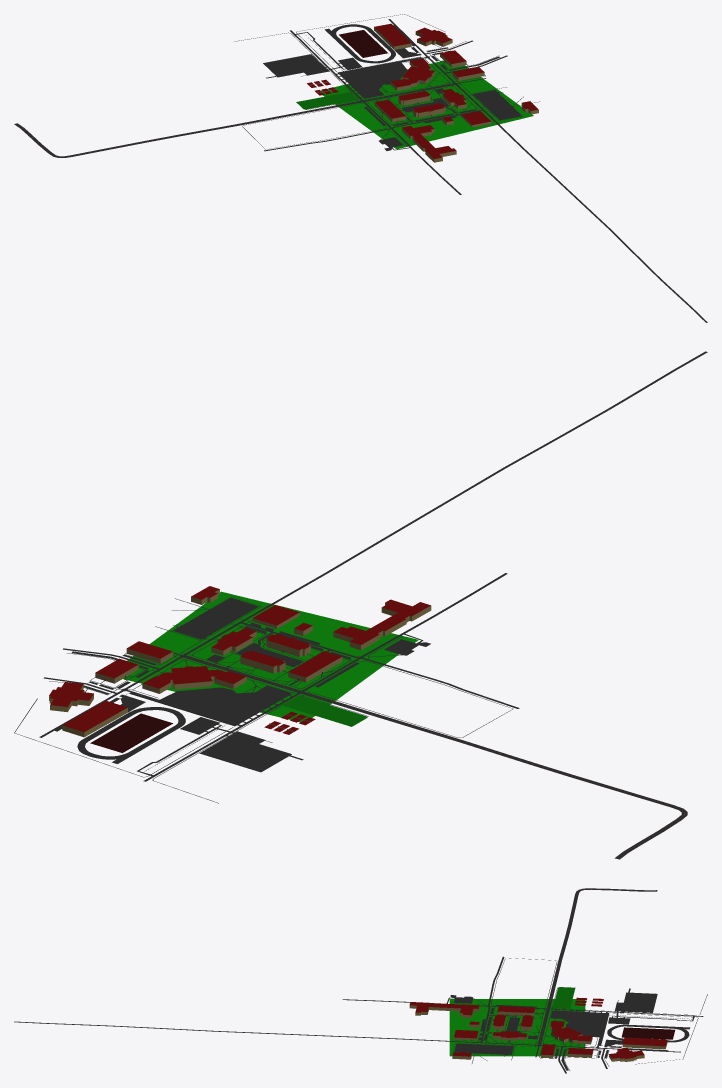
Rendered from Map01.obj.
The picture shows the model from 3 angles, top to bottom: view 1: azimuth 30°, elevation 25°; view 2: azimuth 150°, elevation 25°; view 3: azimuth 270°, elevation 25°; orthographic projection. The views are drawn at different scales.
Parts seen in each view (by area): view 1: SurfaceArea612, SurfaceParking583, Road University Drive, SurfaceParking611, Road North Peachtree Avenue, Building Laboratory Sciences Building, Building Volpe Library and Media Center, SurfaceArea602, SurfaceParking582, RoadArea578, Building Tucker Stadium (East), SurfaceArea610 (+1 smaller); view 2: SurfaceArea612, SurfaceParking583, Road University Drive, SurfaceParking611, Building Laboratory Sciences Building, Road North Peachtree Avenue, Building Volpe Library and Media Center, SurfaceArea602, SurfaceParking582, Building Tucker Stadium (East), RoadArea578, SurfaceArea610 (+3 smaller); view 3: SurfaceArea612, SurfaceParking583, Road North Peachtree Avenue, Road University Drive, SurfaceParking611, Building Laboratory Sciences Building, Building Volpe Library and Media Center, SurfaceArea602, SurfaceParking582, Building Tucker Stadium (East), SurfaceArea610, RoadArea578 (+3 smaller).
Boxes of the visible parts, bbox=[...] form: SurfaceArea612: bbox=[321, 61, 533, 149]; SurfaceParking583: bbox=[337, 57, 421, 98]; Road University Drive: bbox=[14, 78, 485, 157]; SurfaceParking611: bbox=[263, 54, 329, 77]; Road North Peachtree Avenue: bbox=[388, 19, 707, 322]; Building Laboratory Sciences Building: bbox=[402, 125, 456, 162]; Building Volpe Library and Media Center: bbox=[390, 58, 434, 90]; SurfaceArea602: bbox=[339, 30, 388, 57]; SurfaceParking582: bbox=[472, 90, 521, 120]; RoadArea578: bbox=[324, 24, 395, 63]; Building Tucker Stadium (East): bbox=[374, 23, 411, 49]; SurfaceArea610: bbox=[296, 92, 357, 109]; SurfaceArea612: bbox=[123, 591, 418, 722]; SurfaceParking583: bbox=[129, 685, 290, 726]; Road University Drive: bbox=[173, 652, 687, 859]; SurfaceParking611: bbox=[199, 731, 291, 772]; Building Laboratory Sciences Building: bbox=[333, 599, 431, 650]; Road North Peachtree Avenue: bbox=[39, 351, 707, 737]; Building Volpe Library and Media Center: bbox=[142, 666, 246, 693]; SurfaceArea602: bbox=[90, 713, 172, 752]; SurfaceParking582: bbox=[173, 597, 258, 639]; Building Tucker Stadium (East): bbox=[62, 700, 127, 737]; RoadArea578: bbox=[77, 707, 185, 763]; SurfaceArea610: bbox=[283, 696, 367, 726]; SurfaceArea612: bbox=[449, 999, 585, 1056]; SurfaceParking583: bbox=[550, 1010, 609, 1045]; Road North Peachtree Avenue: bbox=[14, 1021, 680, 1052]; Road University Drive: bbox=[535, 888, 657, 1057]; SurfaceParking611: bbox=[615, 992, 657, 1012]; Building Laboratory Sciences Building: bbox=[409, 1002, 479, 1018]; Building Volpe Library and Media Center: bbox=[550, 1021, 592, 1044]; SurfaceArea602: bbox=[621, 1027, 675, 1039]; SurfaceParking582: bbox=[454, 1043, 513, 1054]; Building Tucker Stadium (East): bbox=[622, 1037, 667, 1049]; SurfaceArea610: bbox=[553, 987, 575, 1008]; RoadArea578: bbox=[607, 1024, 690, 1042].
Bounding box in the file's own units: 970 × 10 × 1537.
